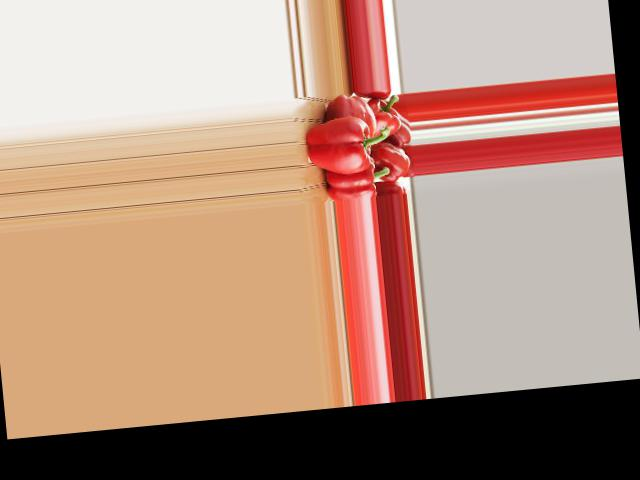bell_pepper: (364, 92, 403, 137)
